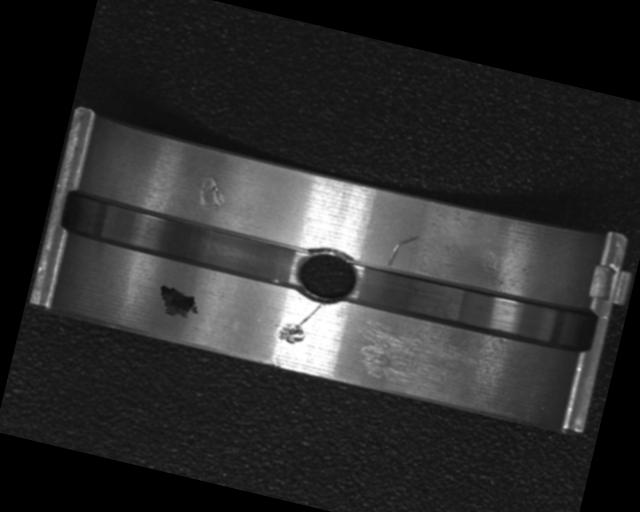blot: (153, 283, 203, 321)
bruise: (193, 170, 232, 214), (275, 319, 310, 347)
gap: (349, 254, 598, 360), (59, 186, 307, 291)
hole: (289, 239, 365, 313)
nick: (386, 230, 420, 271), (294, 296, 325, 333)
scratch: (355, 315, 484, 399)
